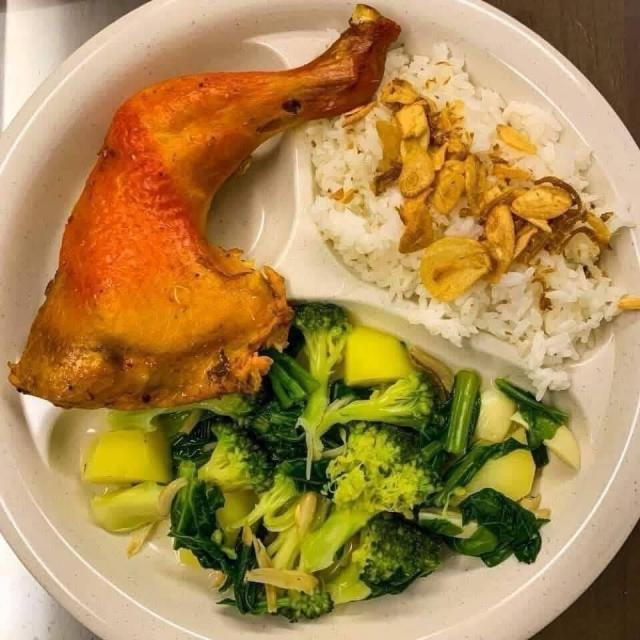Chicken: (4, 7, 406, 411)
Plate: (0, 0, 352, 639)
Rice: (310, 41, 639, 403)
Vegetables: (83, 302, 580, 622)
